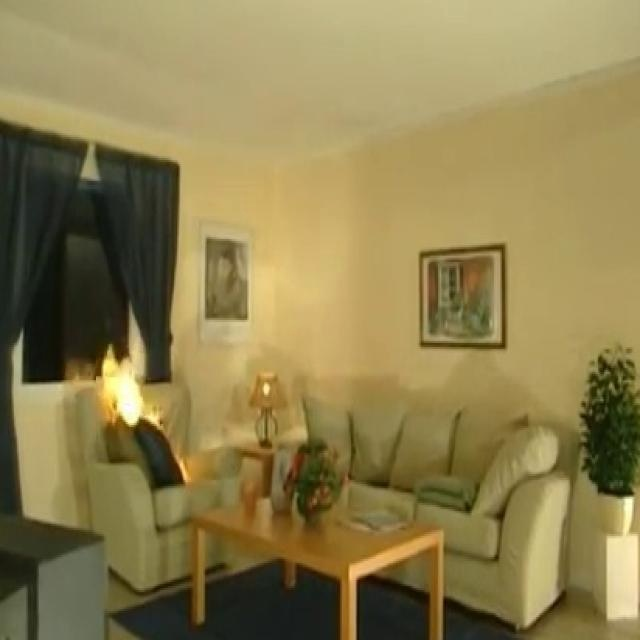fire: (82, 339, 200, 510)
